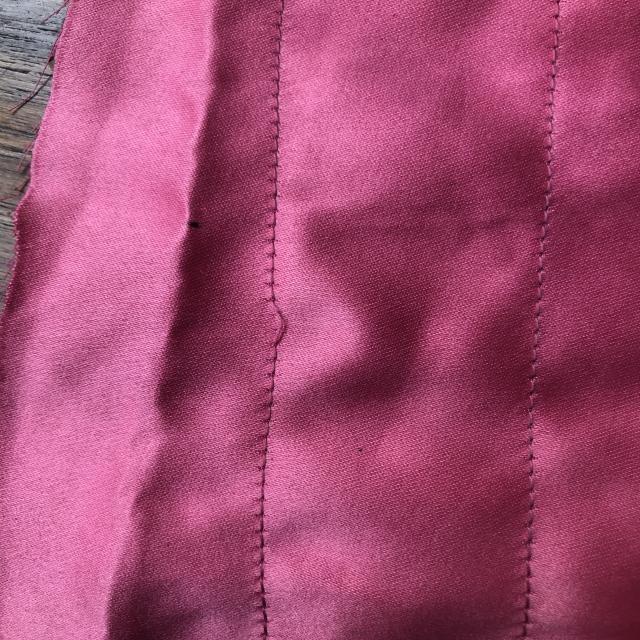skip: (246, 294, 320, 369)
